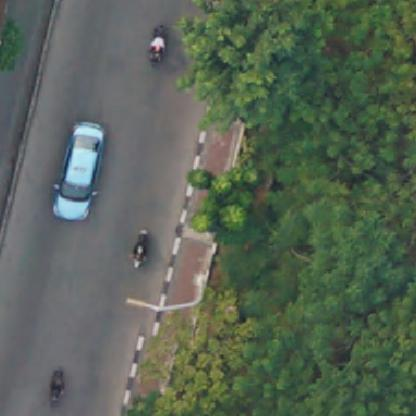car: (52, 119, 108, 228)
motorcycle: (147, 23, 168, 67), (46, 365, 69, 405), (129, 231, 151, 269)
